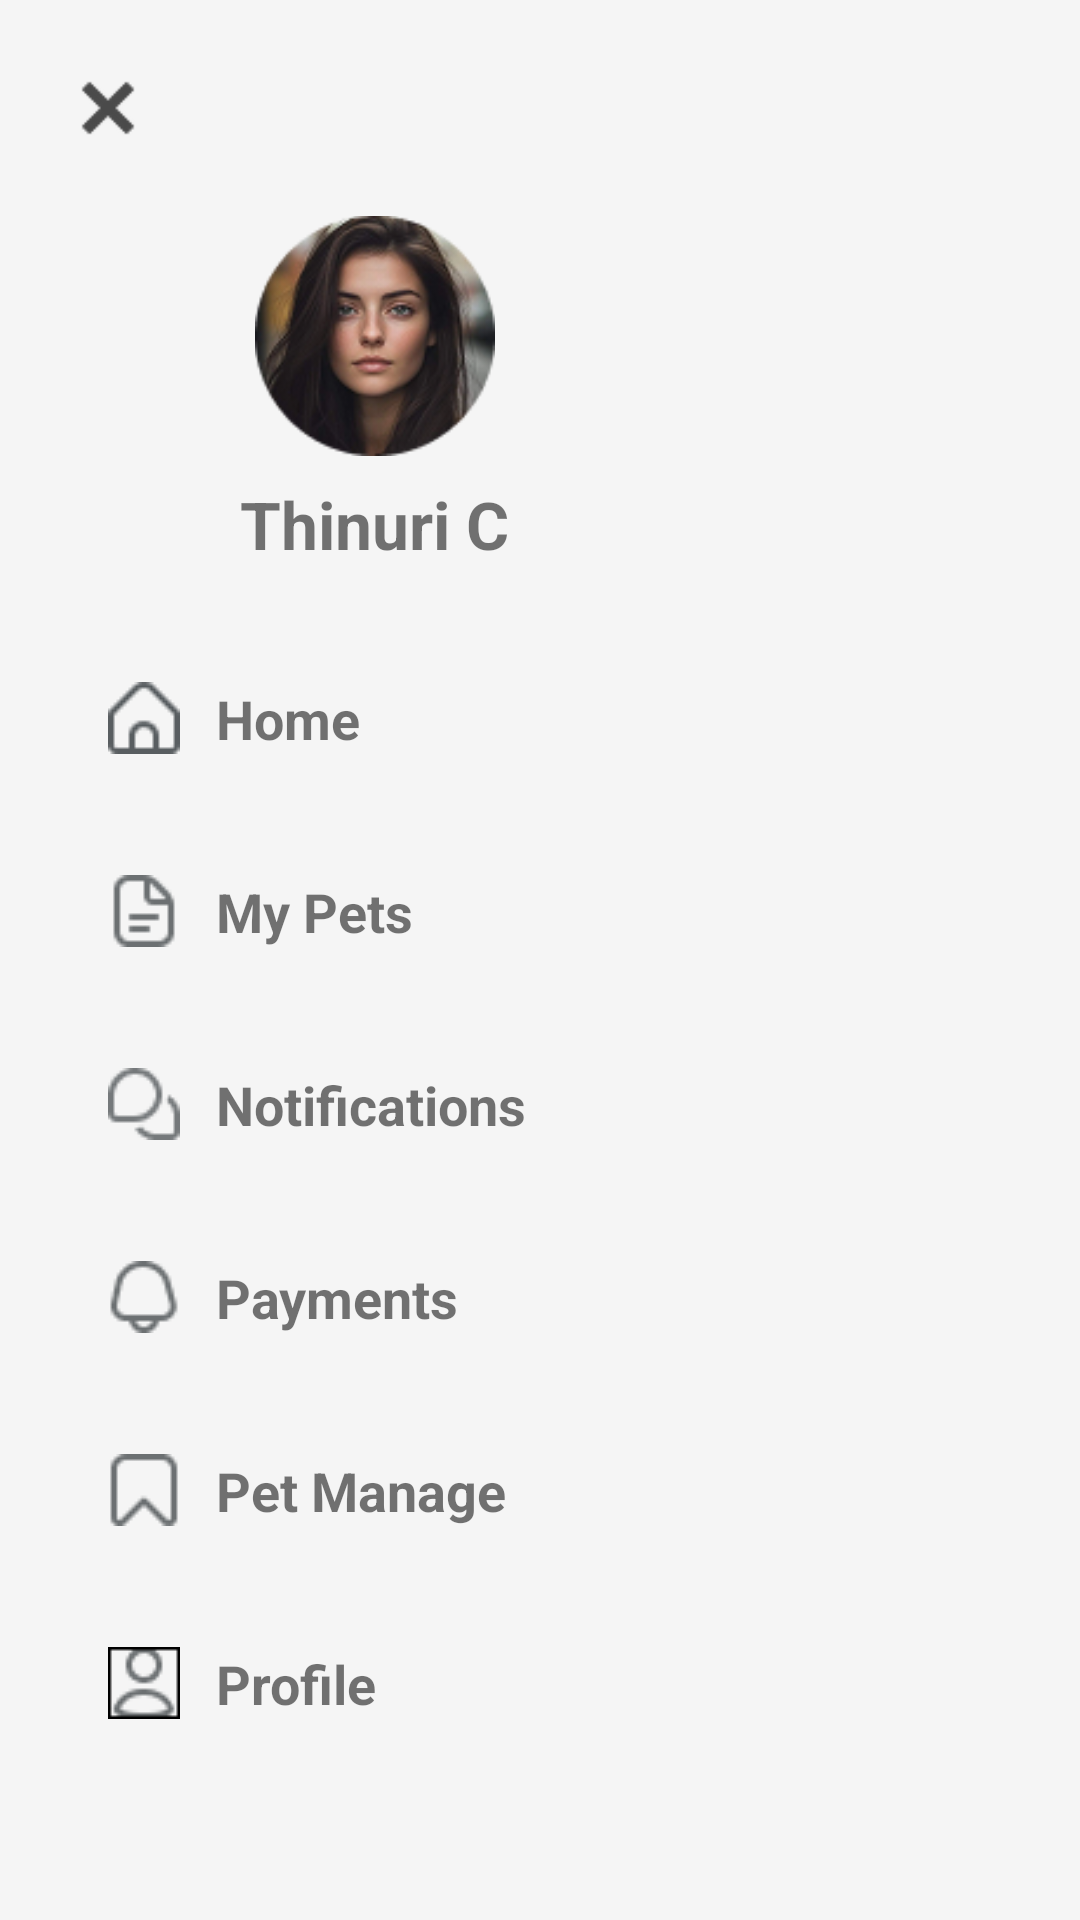

Named icons in this screenshot (1080w x 1920h) and their bounding boxes, bbox=(x1, y1, x2, y2):
Close Menu: bbox=(82, 82, 134, 134)
